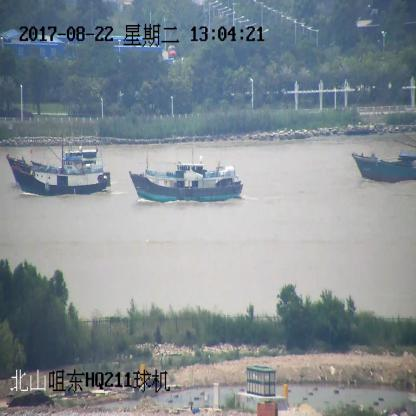Fishing Boat: (129, 158, 242, 202), (7, 144, 100, 186), (14, 152, 111, 192), (352, 144, 416, 183)
